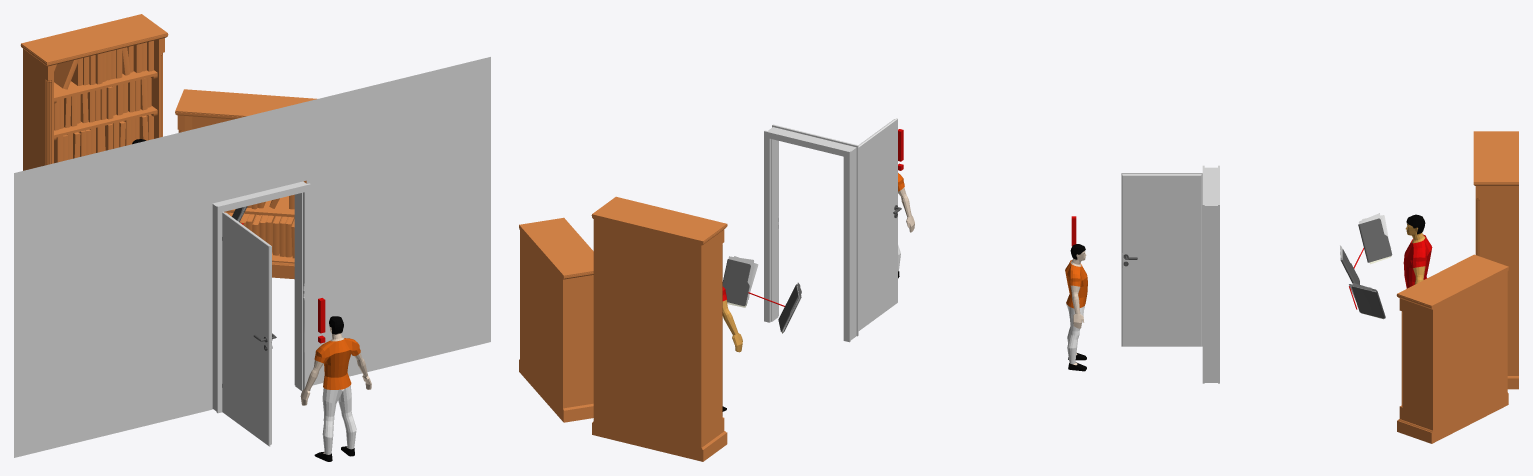
The picture shows the model from 3 angles, left to right: view 1: azimuth 30°, elevation 25°; view 2: azimuth 150°, elevation 25°; view 3: azimuth 270°, elevation 25°; orthographic projection. The views are drawn at different scales.
Parts seen in each view (by area): view 1: Plane, Plane.001, Victorian Bookcase Tall, Plane.002, Victorian Bookcase Small, Victorian Bookcase Tall Books 6, Victorian Bookcase Tall Books 7, Victorian Bookcase Tall Books 5, Victorian Bookcase Small Books 1, Human full_Material.004_0.001, Human full_Material.005_0.001, Human full_Material.003_0.001 (+1 smaller); view 2: Victorian Bookcase Tall, Victorian Bookcase Small, Plane.001, Plane.002, Folder_1Shape; view 3: Victorian Bookcase Small, Plane.001, Victorian Bookcase Tall, Plane.002, Human full, Folder_1Shape.001, Human full_Material.004_0.001, Folder_1Shape.002, Human full_Material.005_0.001, Human full_Material.003_0.001.
Part boxes in pixels (box(x1,y1,x2,y2)): Plane: box(14, 57, 490, 457); Plane.001: box(222, 211, 272, 446); Victorian Bookcase Tall: box(20, 14, 168, 170); Plane.002: box(212, 181, 310, 413); Victorian Bookcase Small: box(175, 89, 316, 279); Victorian Bookcase Tall Books 6: box(54, 77, 151, 130); Victorian Bookcase Tall Books 7: box(54, 40, 153, 89); Victorian Bookcase Tall Books 5: box(54, 114, 153, 163); Victorian Bookcase Small Books 1: box(225, 212, 294, 258); Human full_Material.004_0.001: box(314, 338, 360, 389); Human full_Material.005_0.001: box(322, 385, 356, 454); Human full_Material.003_0.001: box(300, 327, 371, 454); Victorian Bookcase Tall: box(591, 196, 727, 461); Victorian Bookcase Small: box(519, 217, 593, 422); Plane.001: box(858, 118, 897, 330); Plane.002: box(764, 124, 858, 342); Folder_1Shape: box(722, 259, 750, 305); Victorian Bookcase Small: box(1396, 254, 1508, 443); Plane.001: box(1121, 173, 1202, 346); Victorian Bookcase Tall: box(1473, 131, 1518, 389); Plane.002: box(1202, 165, 1219, 383); Human full: box(1403, 214, 1432, 288); Folder_1Shape.001: box(1358, 218, 1392, 262); Human full_Material.004_0.001: box(1065, 260, 1087, 308); Folder_1Shape.002: box(1351, 286, 1385, 318); Human full_Material.005_0.001: box(1066, 304, 1084, 364); Human full_Material.003_0.001: box(1070, 251, 1086, 365).
Size of the model in its own units: 7.22 by 4.13 by 6.89.
20 materials, 1 textured.
